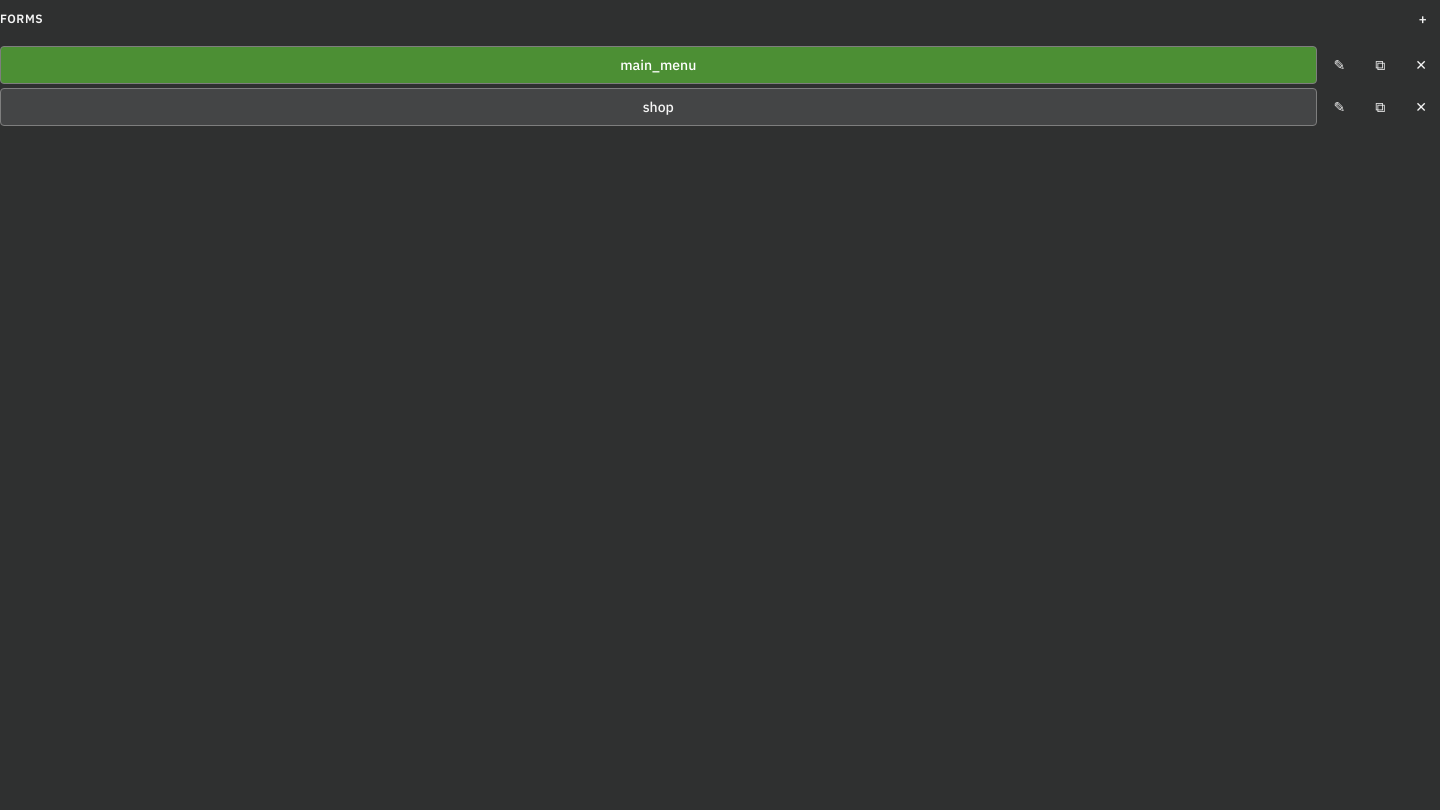
Test: tells the user Ctrl+Z will not undo a delete, and where to go instead
The image size is (1440, 810).
Click the button named "Delete form shop" at (1421, 107), box [1402,88,1439,126]
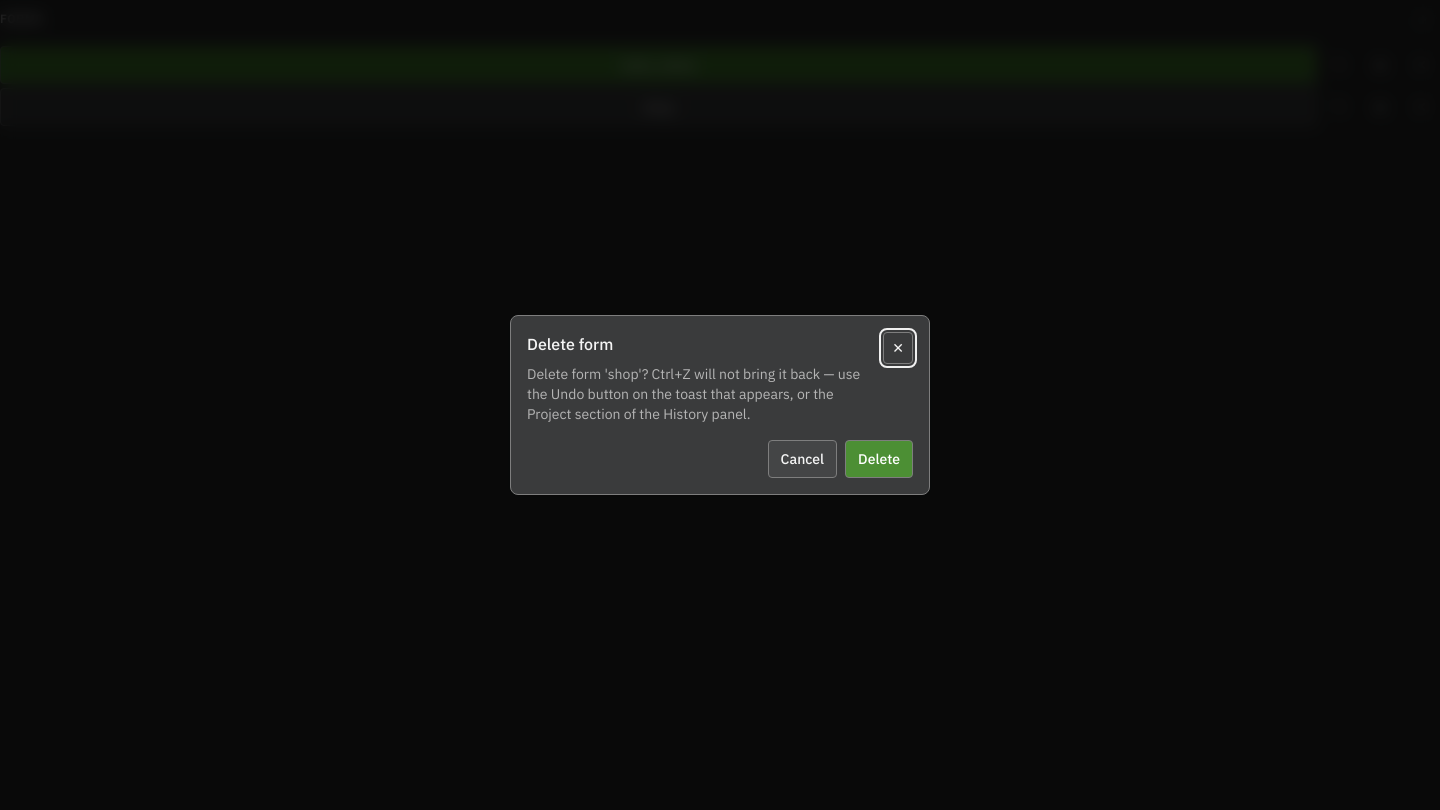
Check: the dialog shows "Delete form 'shop'? Ctrl+Z will not bring it back — use the Undo button on the toast that appears, or the Project section of the History panel.", box [527,365,860,423]
